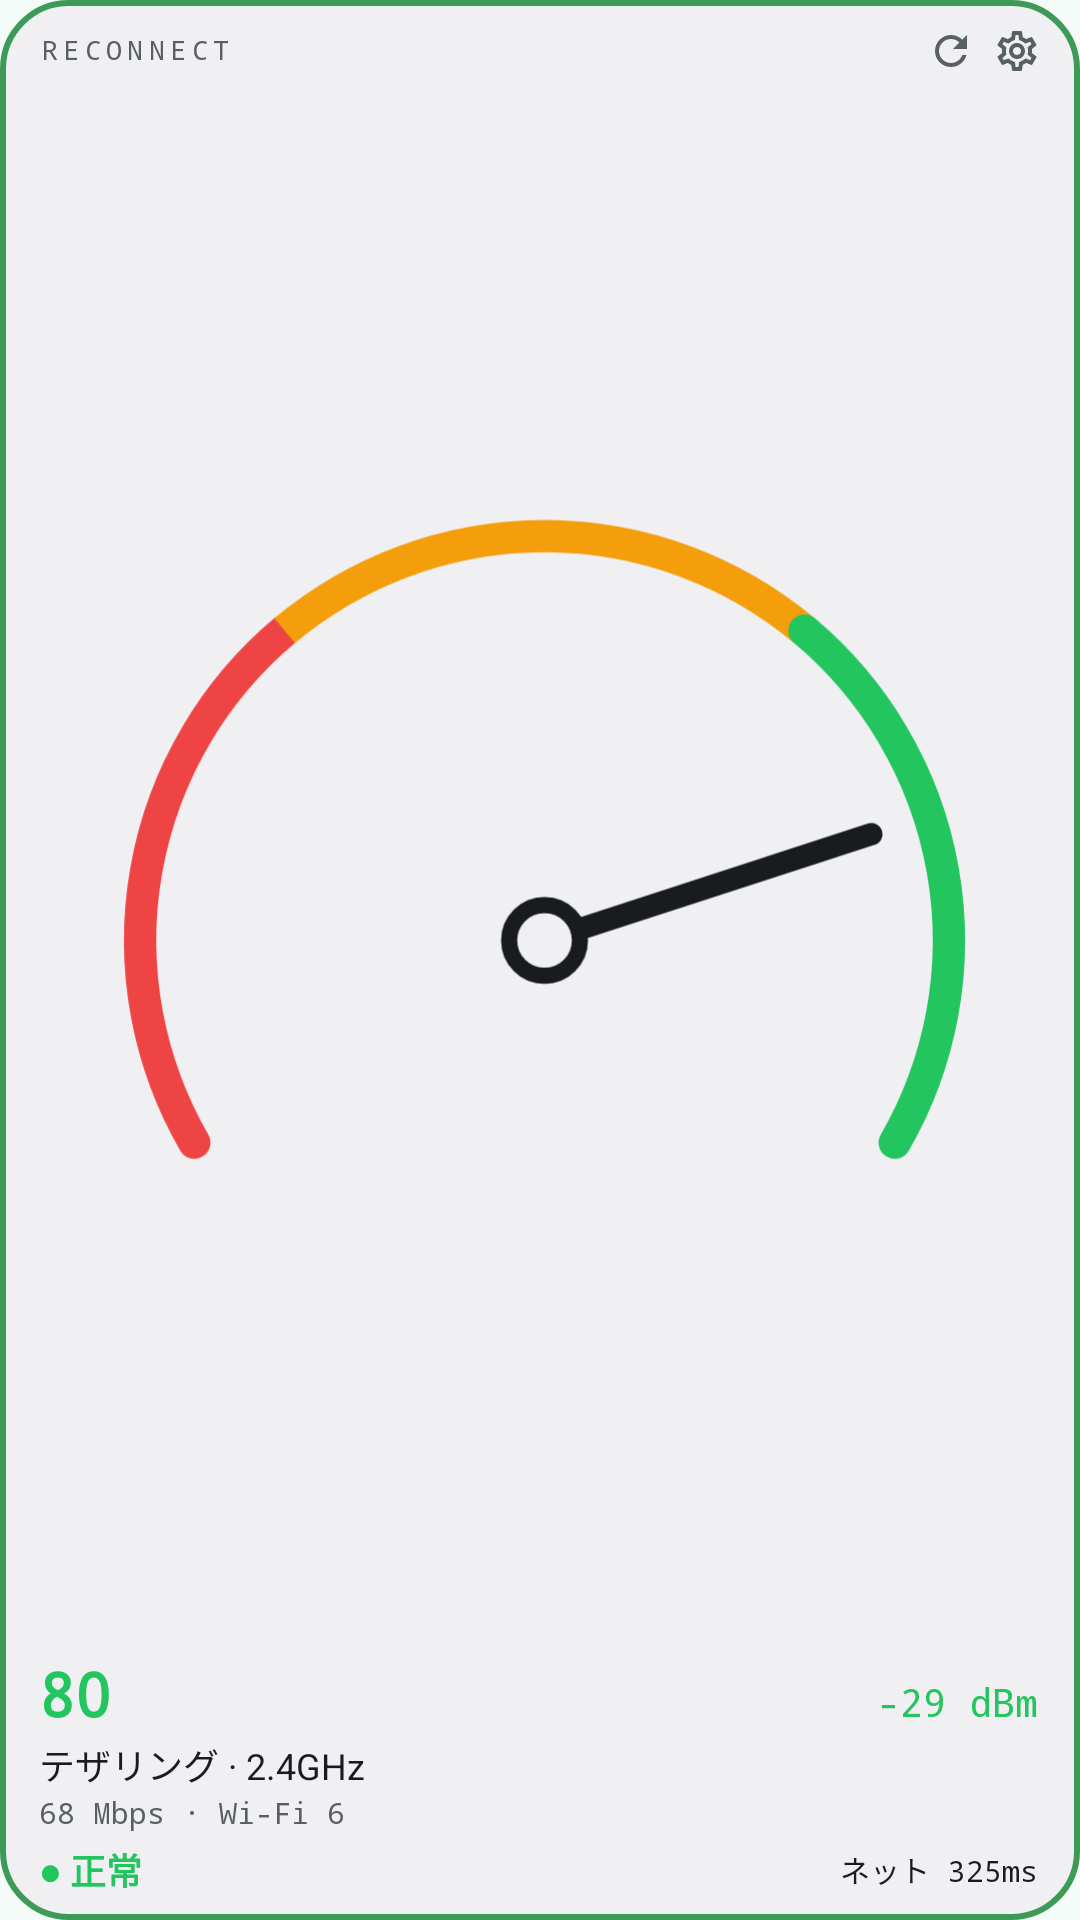

Named icons in this screenshot (1080 x 1920) and their centers, (x,y):
今すぐ再接続: (951,51)
設定: (1017,51)
